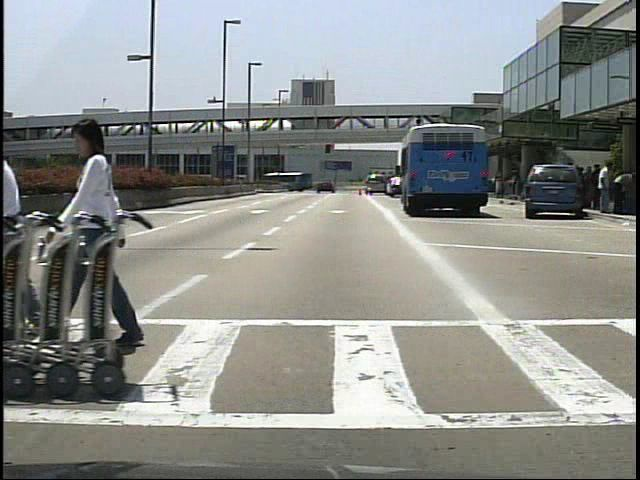person: (60, 106, 152, 353), (4, 121, 80, 340), (598, 160, 619, 213), (589, 163, 605, 213)
